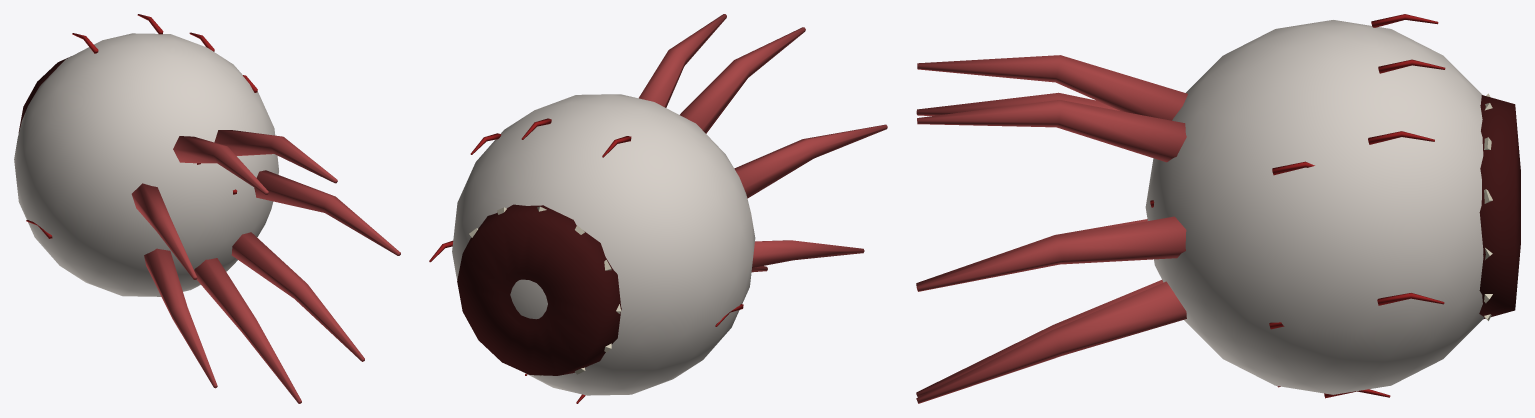
The model's file is eye_of_cthulhu_mouth.glb.
3 renders of one model, left to right at view 1: azimuth 30°, elevation 25°; view 2: azimuth 150°, elevation 25°; view 3: azimuth 270°, elevation 25°, orthographic. The views are drawn at different scales.
Visible parts, largest first — view 1: watcher_maw; view 2: watcher_maw; view 3: watcher_maw.
Part boxes in pixels (box(x1,y1,x2,y2)): watcher_maw: box(14, 14, 400, 403); watcher_maw: box(429, 14, 887, 403); watcher_maw: box(916, 14, 1520, 403).
Bounding box in the file's own units: 2.4 × 2.52 × 3.87.
